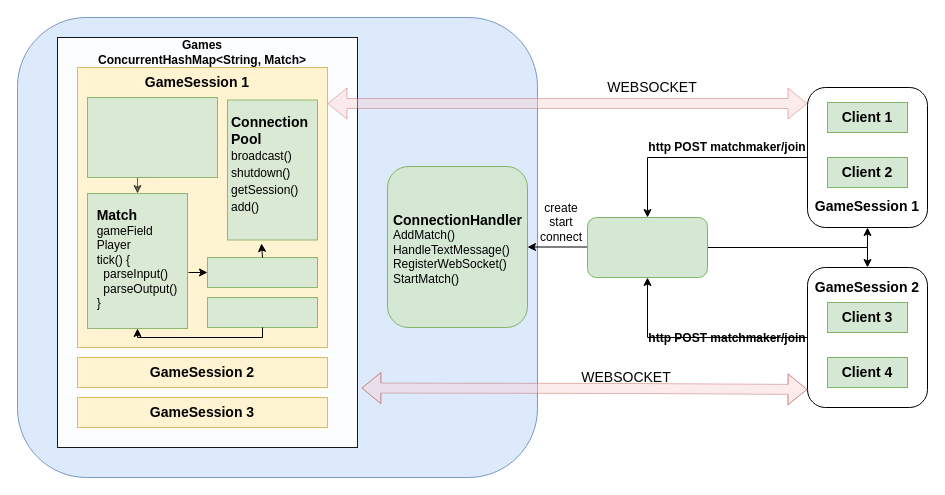
Image size: 945x495. Some labels were removed from this diagram. The centre of each missing label's shape, as x and y in pixels:
"InputQueue" belongs at pixel 262 312.
"MatchMaker" belongs at pixel 647 247.
"OutputQueue" belongs at pixel 262 272.
"Ticker while (!gameFinished) { tick() }" belongs at pixel 152 137.
